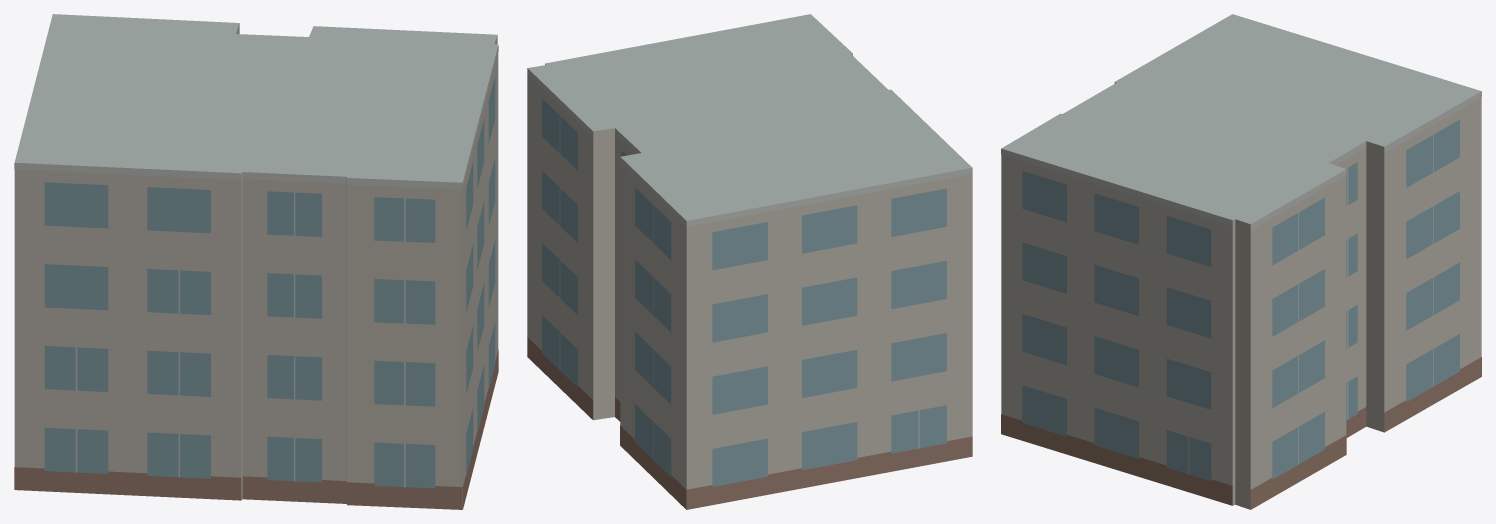
The model's file is survey-upis-32854217.glb.
The picture shows the model from 3 angles, left to right: view 1: azimuth 30°, elevation 25°; view 2: azimuth 150°, elevation 25°; view 3: azimuth 270°, elevation 25°; orthographic projection. The views are drawn at different scales.
Parts seen in each view (by area): view 1: survey-upis-32854217.tmp; view 2: survey-upis-32854217.tmp; view 3: survey-upis-32854217.tmp.
Boxes of the visible parts, x1,y1,x2,y2 form: survey-upis-32854217.tmp: [14, 14, 498, 509]; survey-upis-32854217.tmp: [527, 14, 972, 509]; survey-upis-32854217.tmp: [1001, 14, 1481, 509].
Bounding box in the file's own units: 18.48 × 11.7 × 17.85.
